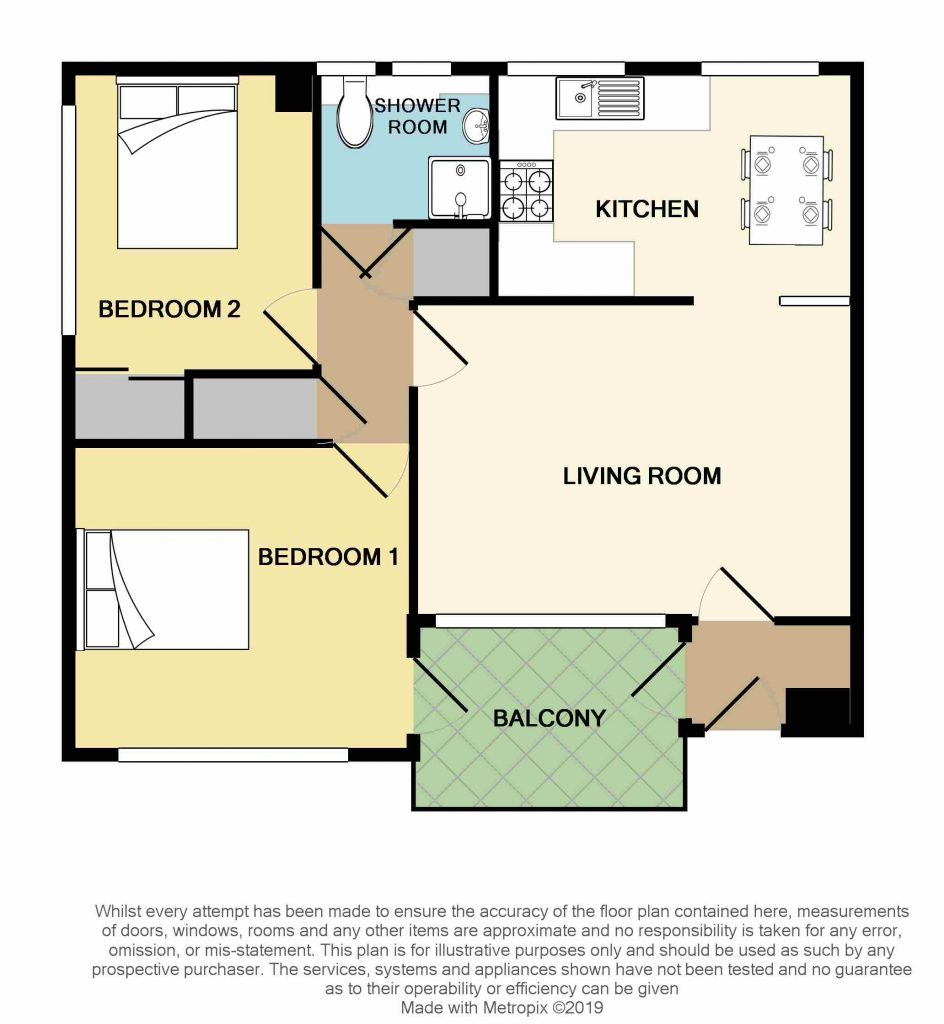door: (693, 547, 784, 616), (421, 315, 481, 398), (420, 311, 473, 404), (332, 450, 404, 504), (259, 286, 306, 358)
